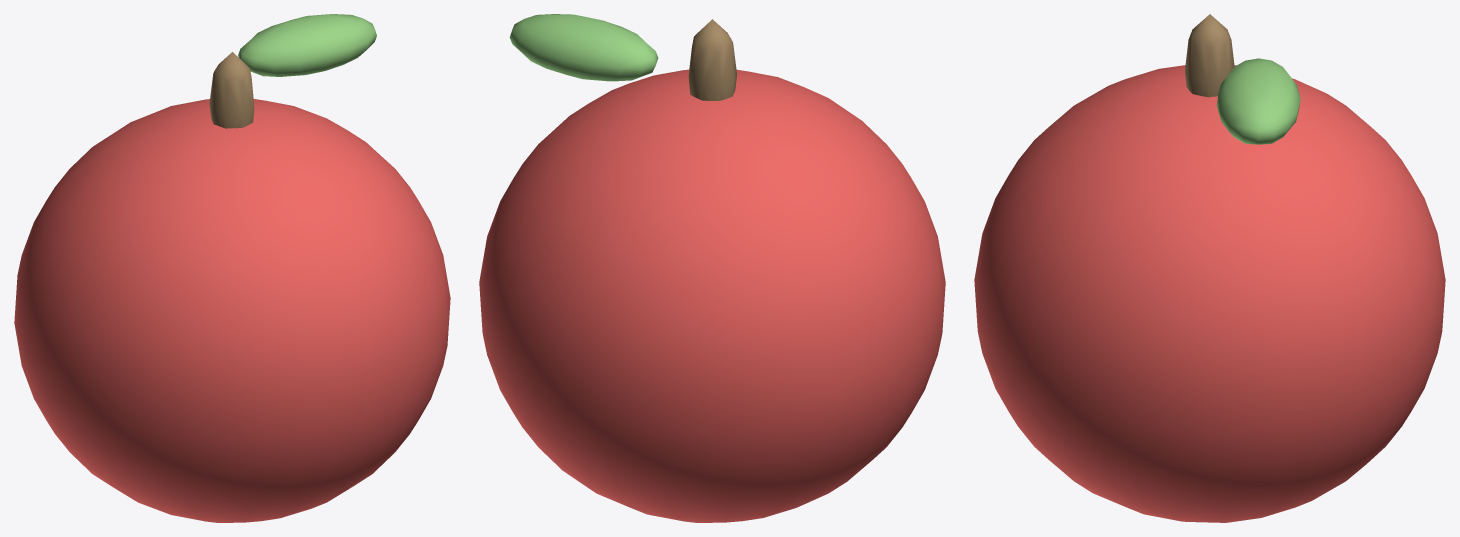
File: item_apple.glb
3 views of the same model, side by side, from view 1: azimuth 30°, elevation 25°; view 2: azimuth 150°, elevation 25°; view 3: azimuth 270°, elevation 25° (orthographic). The views are drawn at different scales.
Parts seen in each view (by area): view 1: item_apple; view 2: item_apple; view 3: item_apple.
Part boxes in pixels (x1,y1,x2,y2): item_apple: (14, 14, 450, 522); item_apple: (479, 14, 945, 522); item_apple: (974, 14, 1445, 522).
Size of the model in its own units: 0.1937 by 0.221 by 0.1936.
